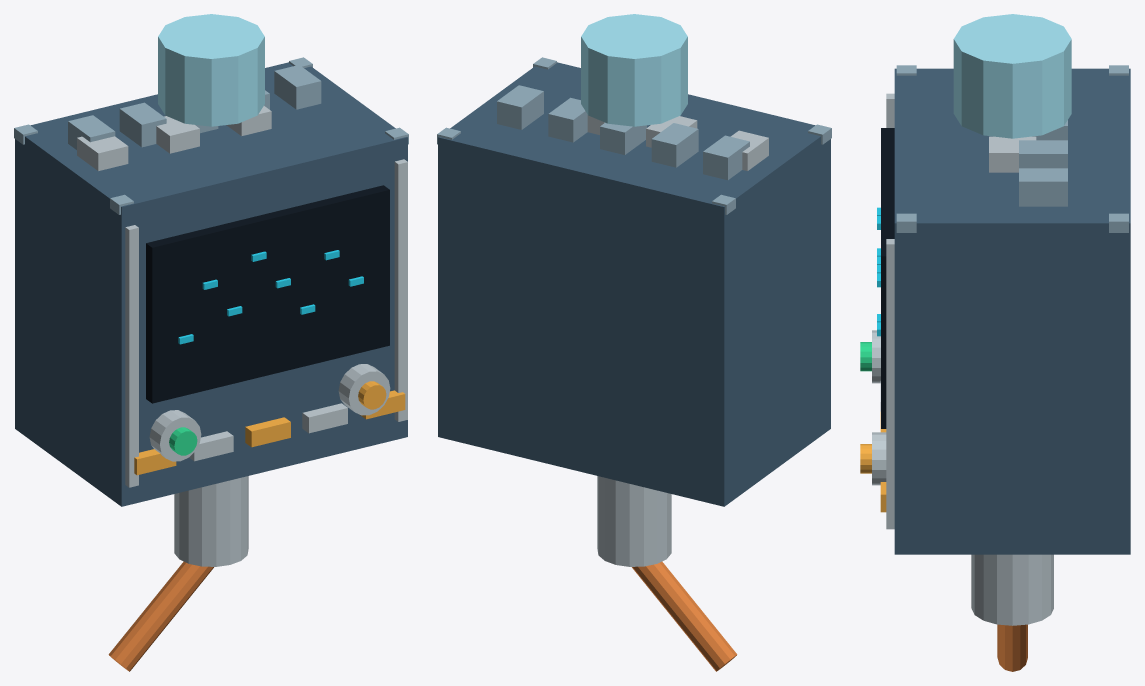
File: 40_L76_ElectrolyteBubbleDetectionSensor.fbx
3 views of the same model, side by side, from view 1: azimuth 30°, elevation 25°; view 2: azimuth 150°, elevation 25°; view 3: azimuth 270°, elevation 25° (orthographic). The views are drawn at different scales.
Parts seen in each view (by area): view 1: ElectrolyteBubbleDetectionSensor, ElectrolyteBubbleDetectionSensor_Part_0036; view 2: ElectrolyteBubbleDetectionSensor, ElectrolyteBubbleDetectionSensor_Part_0036; view 3: ElectrolyteBubbleDetectionSensor, ElectrolyteBubbleDetectionSensor_Part_0036.
Boxes of the visible parts, left/top/right/bottom form: ElectrolyteBubbleDetectionSensor: left=14, top=57, right=408, bottom=671; ElectrolyteBubbleDetectionSensor_Part_0036: left=158, top=14, right=264, bottom=126; ElectrolyteBubbleDetectionSensor: left=437, top=57, right=831, bottom=671; ElectrolyteBubbleDetectionSensor_Part_0036: left=581, top=14, right=687, bottom=126; ElectrolyteBubbleDetectionSensor: left=860, top=65, right=1130, bottom=671; ElectrolyteBubbleDetectionSensor_Part_0036: left=953, top=14, right=1071, bottom=138.
Size of the model in its own units: 62.72 by 127 by 45.85.
